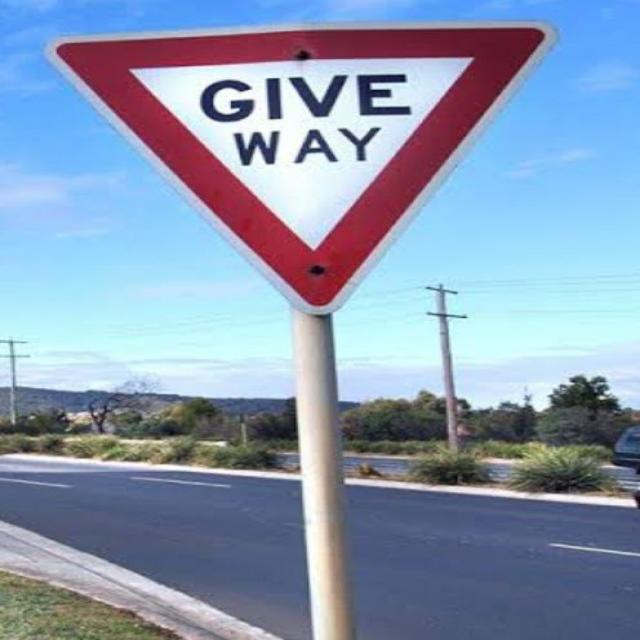give way: (36, 21, 602, 321)
